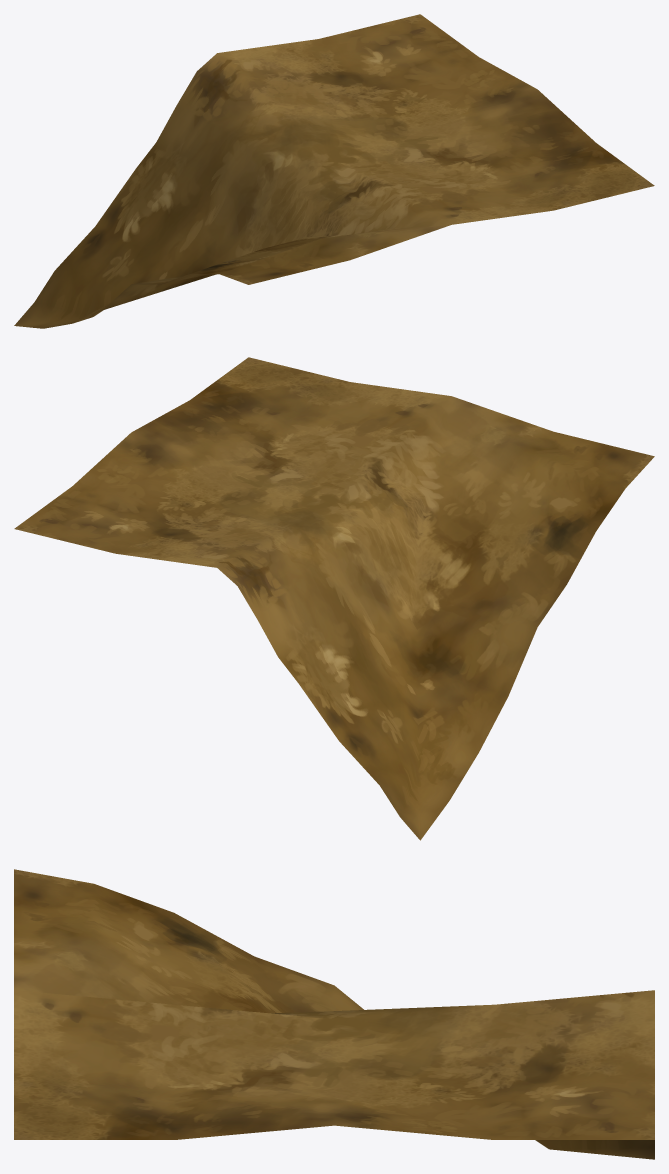
The model's file is Slope_Level_Incline_003.fbx.
The picture shows the model from 3 angles, top to bottom: view 1: azimuth 30°, elevation 25°; view 2: azimuth 150°, elevation 25°; view 3: azimuth 270°, elevation 25°; orthographic projection. The views are drawn at different scales.
Visible parts, largest first — view 1: Slope_Level_Incline_003; view 2: Slope_Level_Incline_003; view 3: Slope_Level_Incline_003.
Boxes of the visible parts, x1=… form: Slope_Level_Incline_003: x1=14, y1=14, x2=654, y2=328; Slope_Level_Incline_003: x1=14, y1=357, x2=654, y2=840; Slope_Level_Incline_003: x1=14, y1=869, x2=654, y2=1159.
Bounding box in the file's own units: 10 × 5.25 × 10.
1 material, 1 textured.
